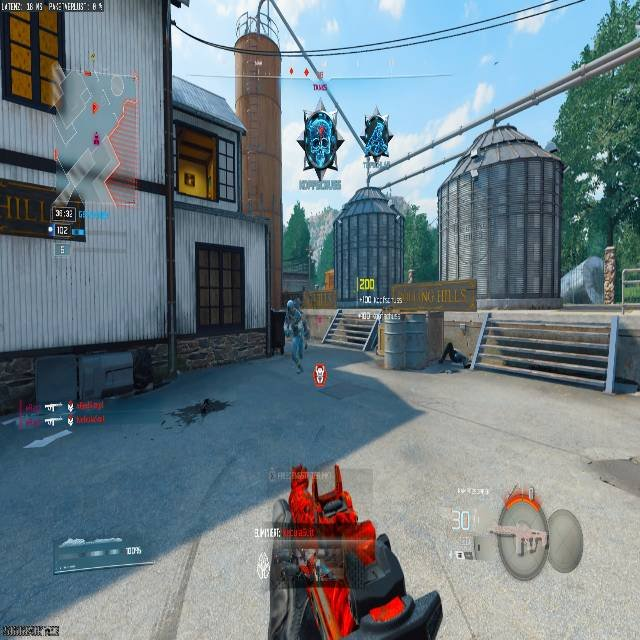head: (284, 289, 300, 307), (286, 299, 296, 310)
player: (282, 296, 308, 374), (362, 111, 392, 169)
